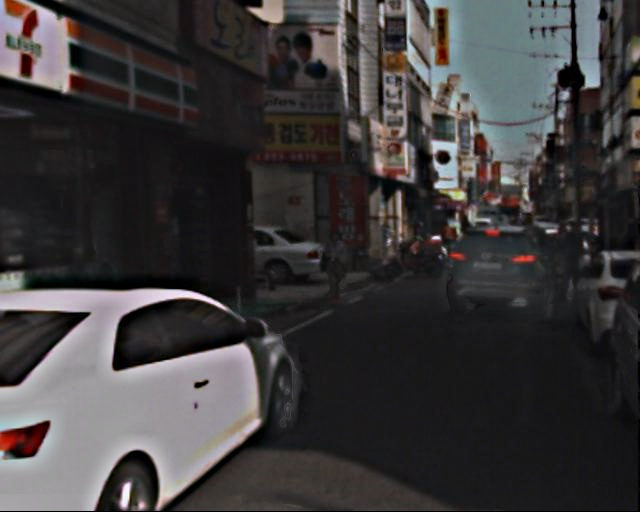person: (319, 231, 352, 311), (558, 220, 590, 299)
